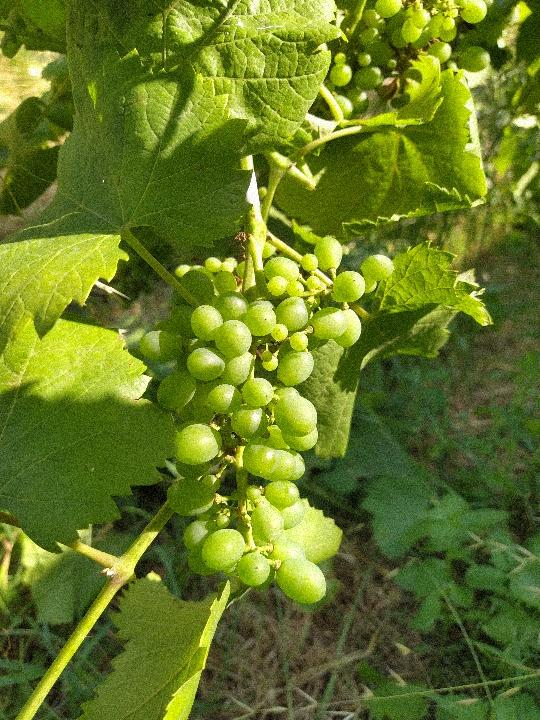grape: (131, 231, 398, 606)
